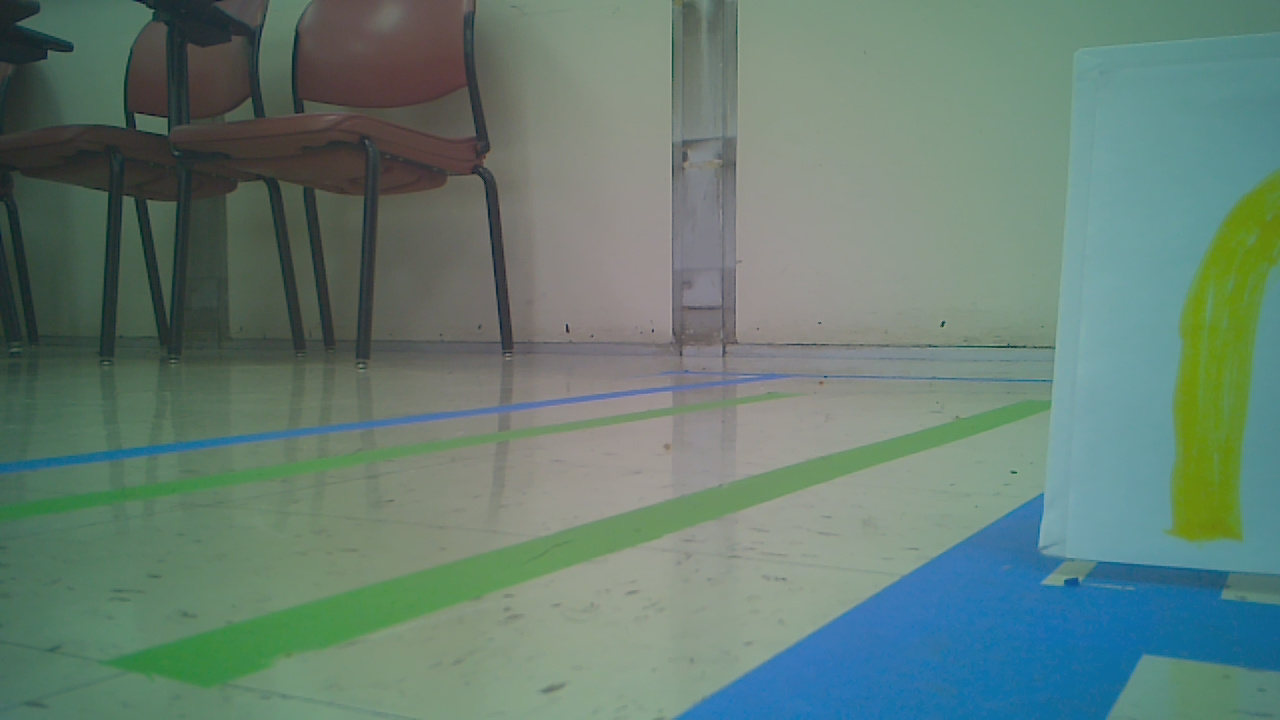greenline: (115, 395, 1058, 673), (13, 392, 776, 519)
